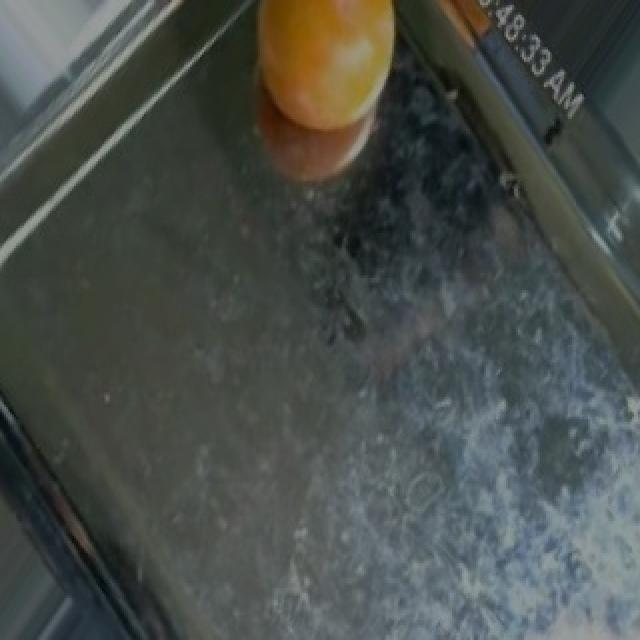Fruit: (232, 0, 428, 211)
